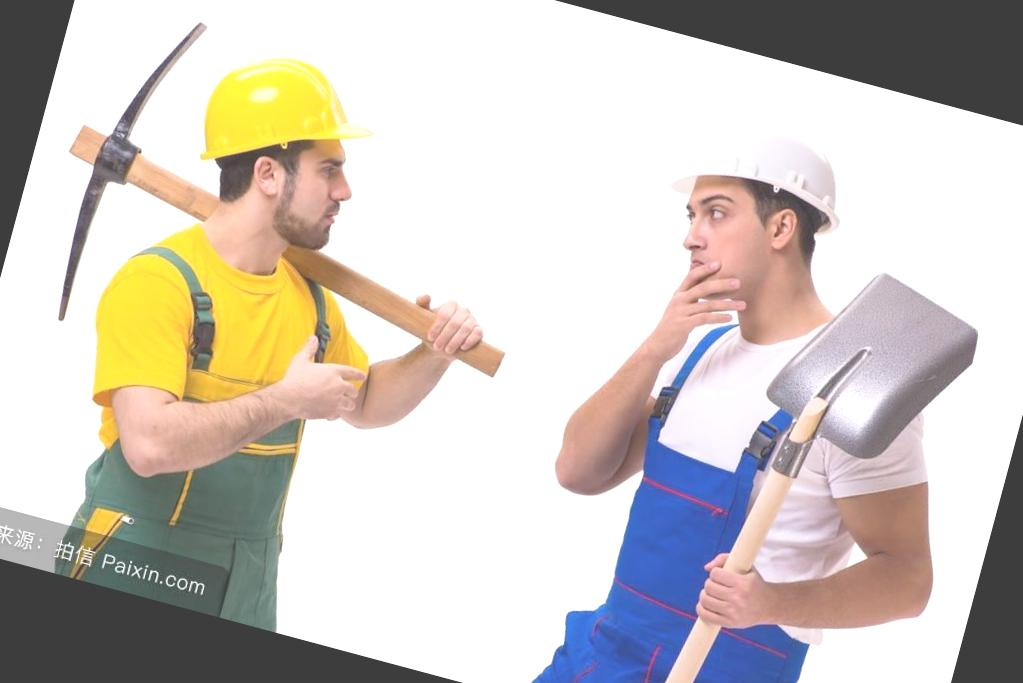helmet: (186, 35, 390, 204), (666, 101, 862, 230)
no_vest: (577, 288, 954, 683), (39, 194, 396, 564)
person: (492, 84, 1023, 683), (18, 11, 482, 648)
